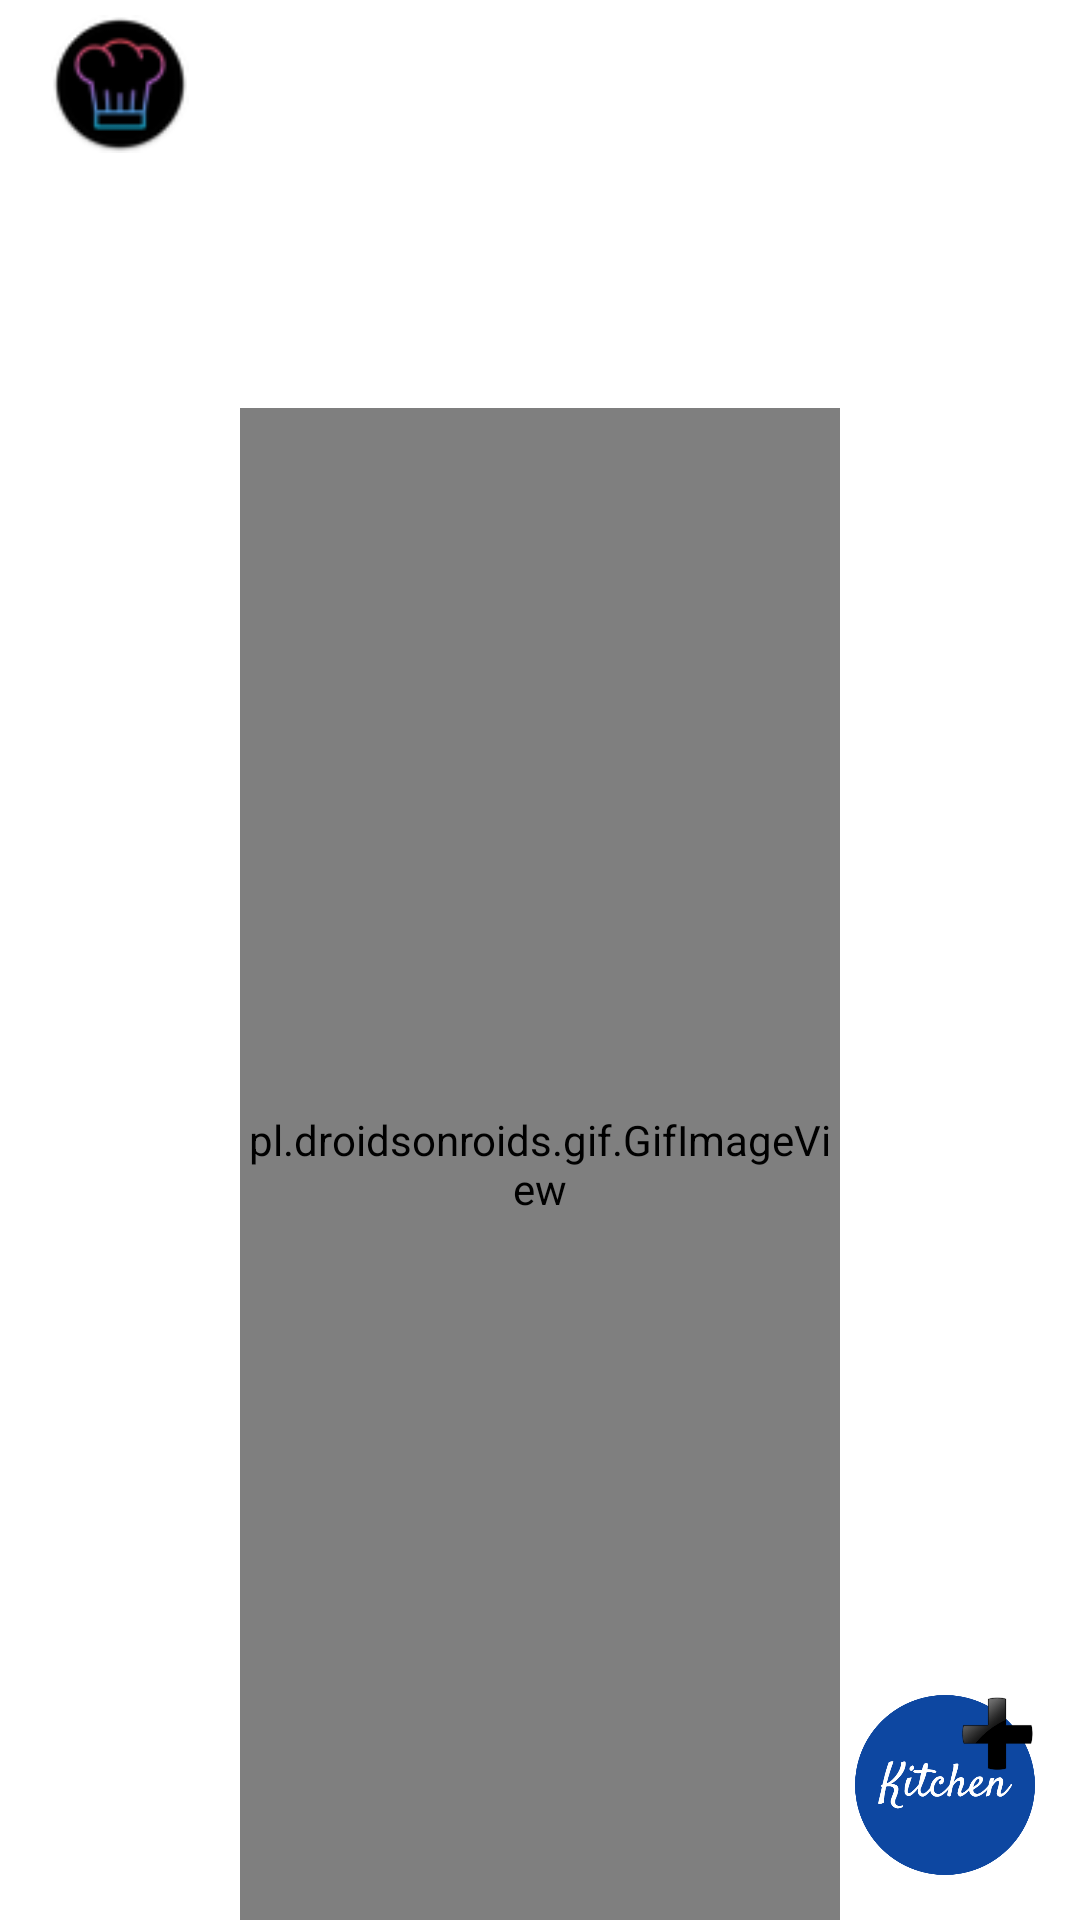

Icon bounding boxes for this 1080 × 1920 phone screenshot, format bbox(x1, y1, x2, y2):
add kitchen: bbox(855, 1695, 1035, 1875)
